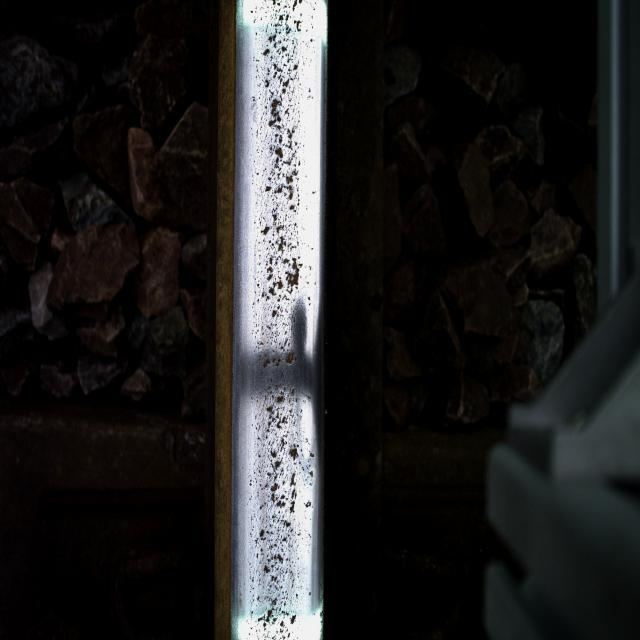scar: (260, 12, 295, 632)
